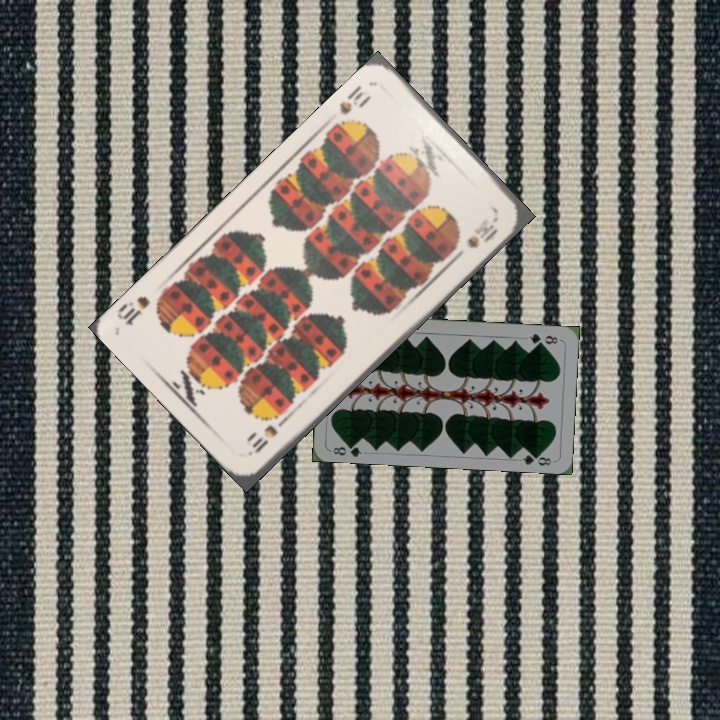G8: (329, 438, 364, 459), (525, 329, 561, 348)
S10: (244, 412, 291, 459), (334, 81, 375, 118)
